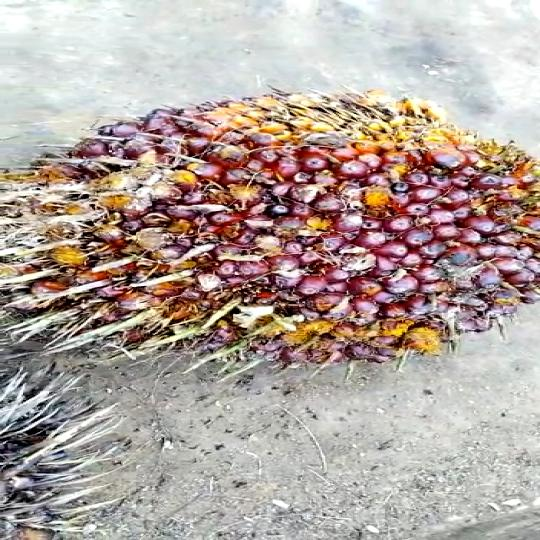masak: (21, 90, 540, 365)
